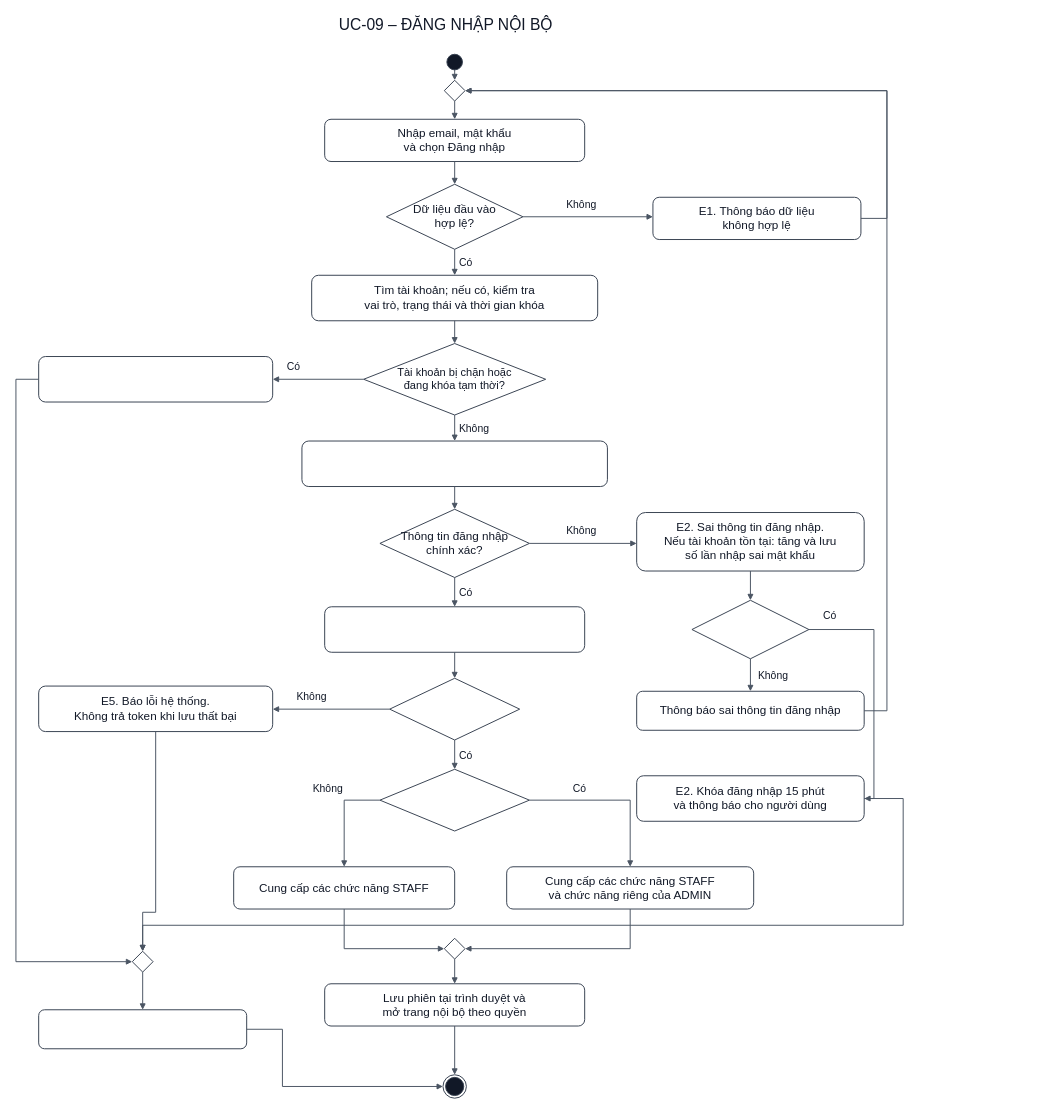
The diagram is 1064 pixels wide and 1110 high, and some of its shapes have lost their labels. Each missing label, with the box of its shape:
E3/E4. Thông báo không được phép đăng nhập hoặc đang bị khóa: (38, 356, 273, 402)
Không đăng nhập thành công: (38, 1009, 247, 1049)
Lưu phiên thành công?: (389, 677, 520, 740)
Vai trò ADMIN?: (379, 768, 530, 831)
Đặt lại bộ đếm sai; khởi tạo và lưu phiên đăng nhập: (324, 606, 585, 652)
Đối chiếu thông tin đăng nhập. Nếu khóa đã hết hạn: bắt đầu chu kỳ sai mới: (301, 440, 608, 487)
Đủ 5 lần sai liên tiếp?: (691, 599, 809, 659)
